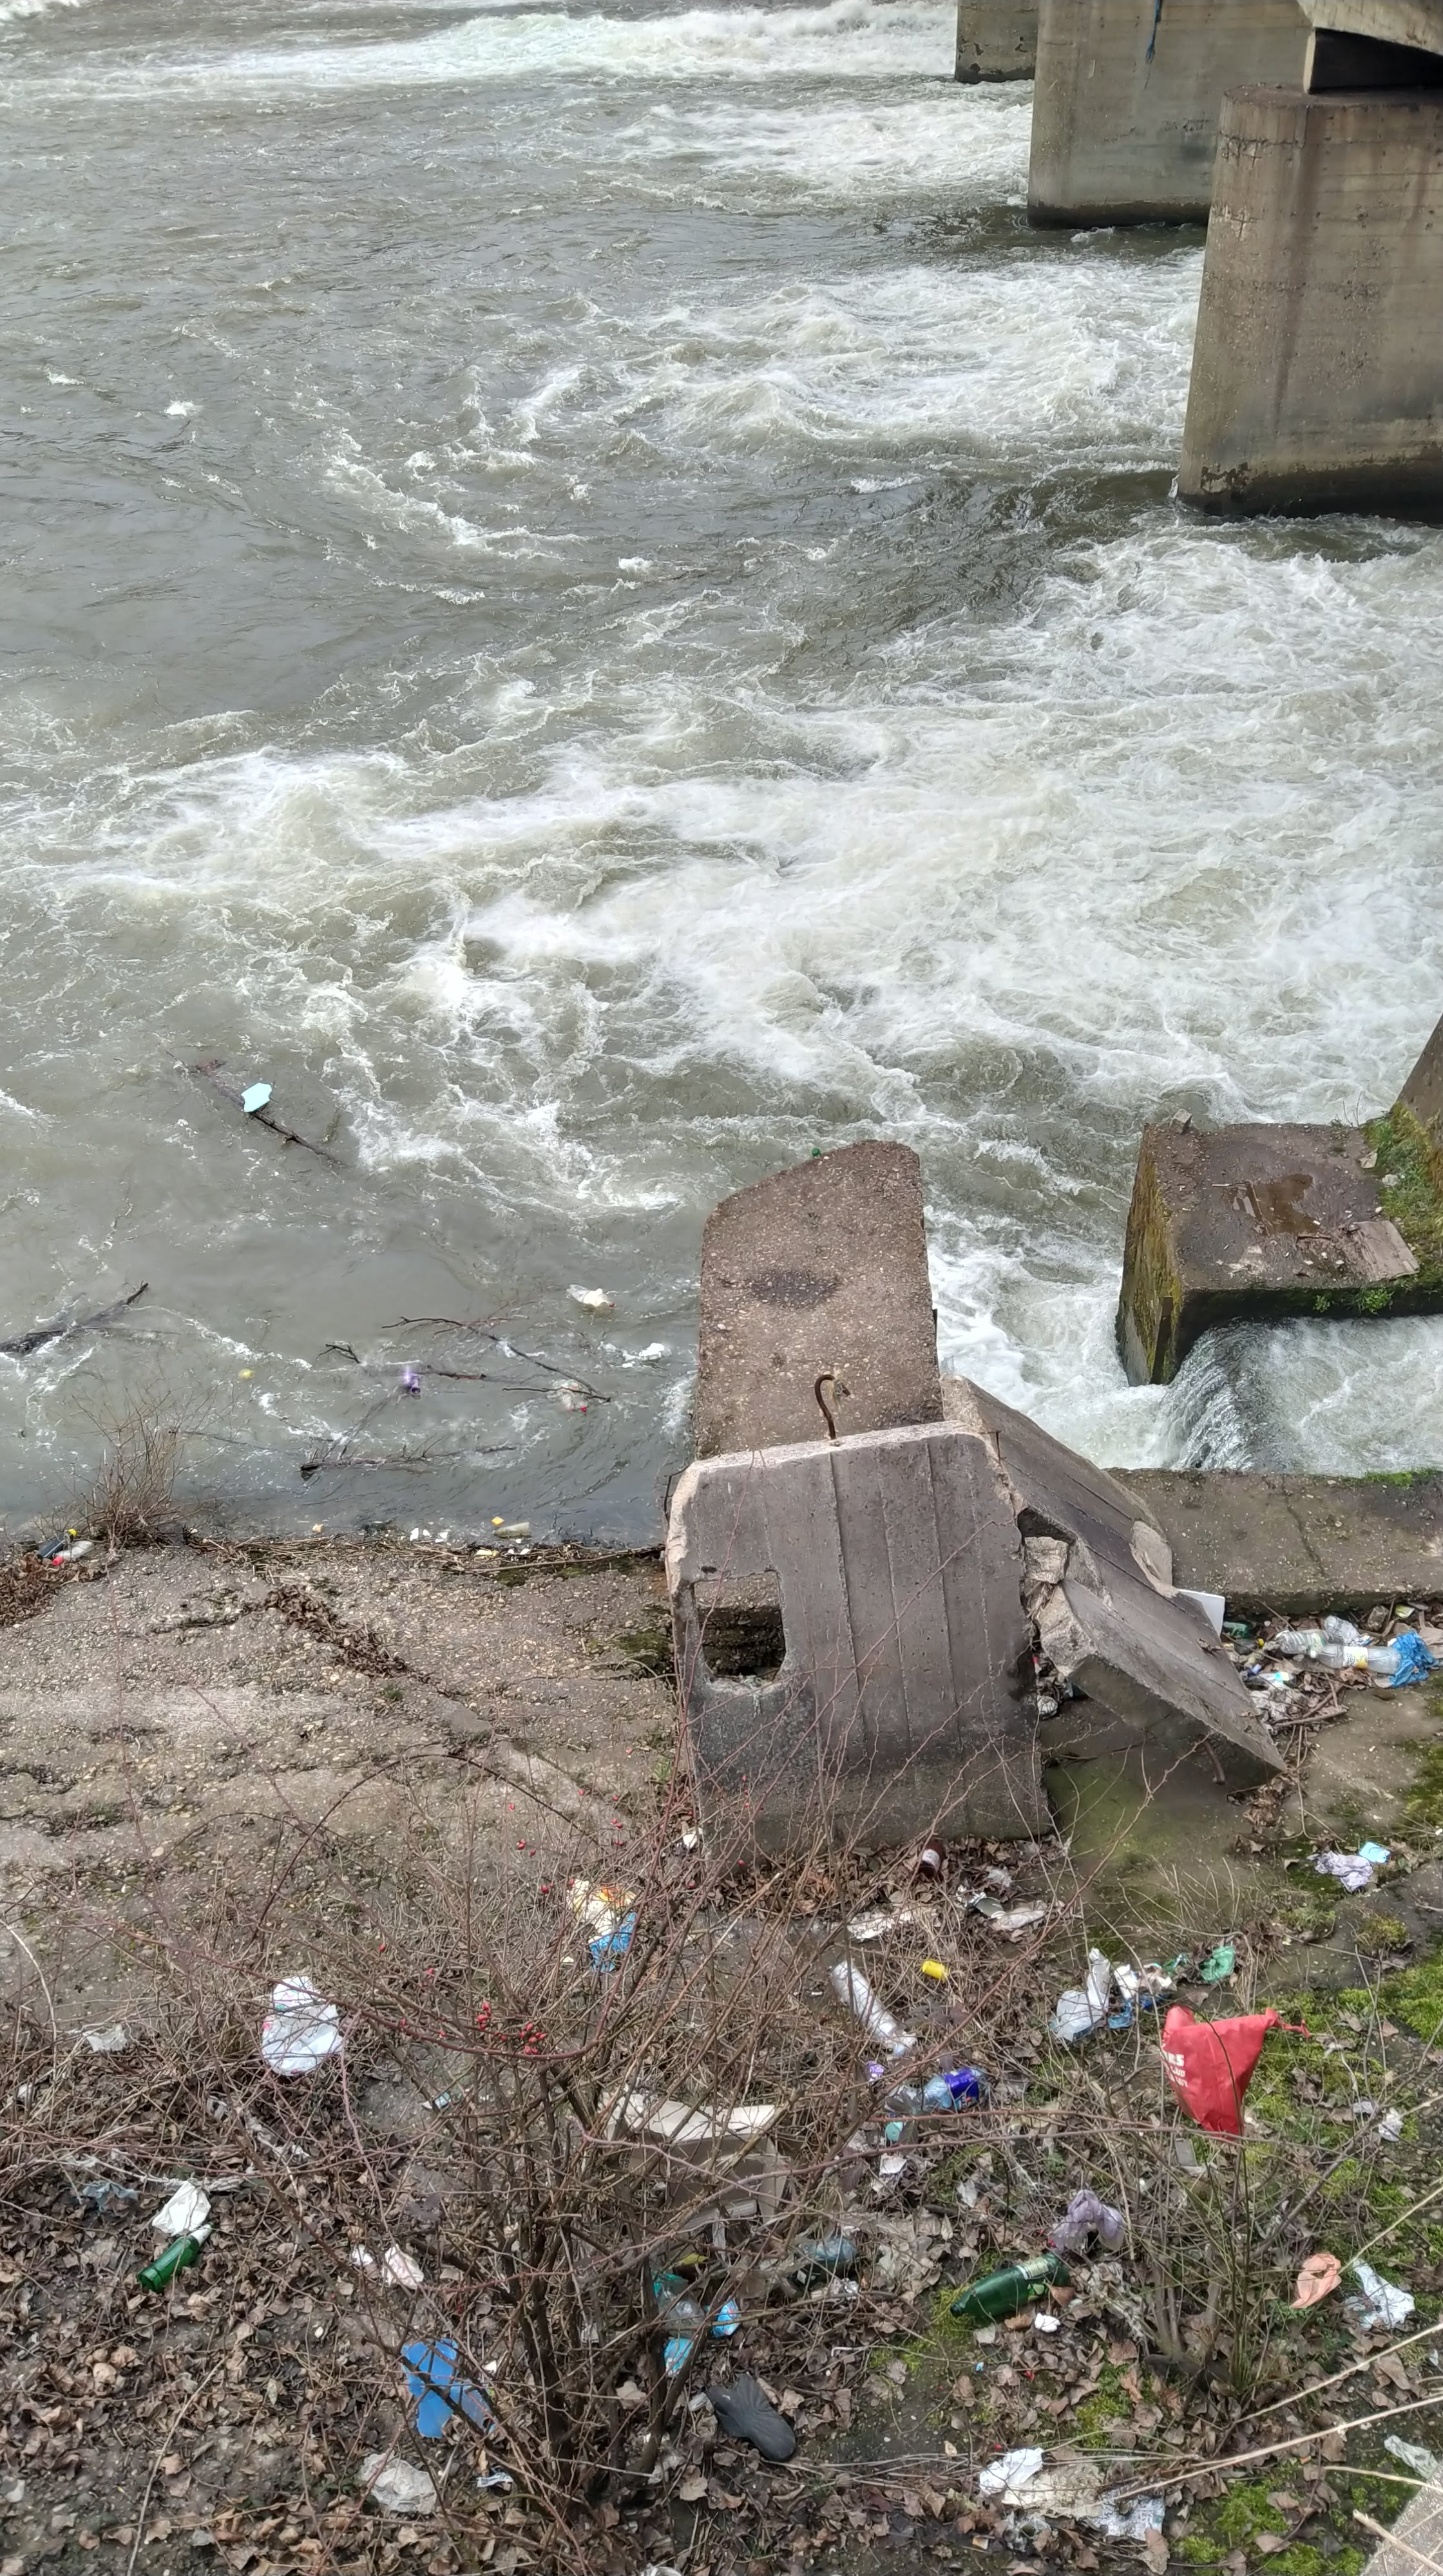Plastic Bottle: (567, 1283, 613, 1307), (565, 1378, 588, 1412), (492, 1522, 531, 1537), (552, 1380, 570, 1408), (811, 1146, 820, 1157)
